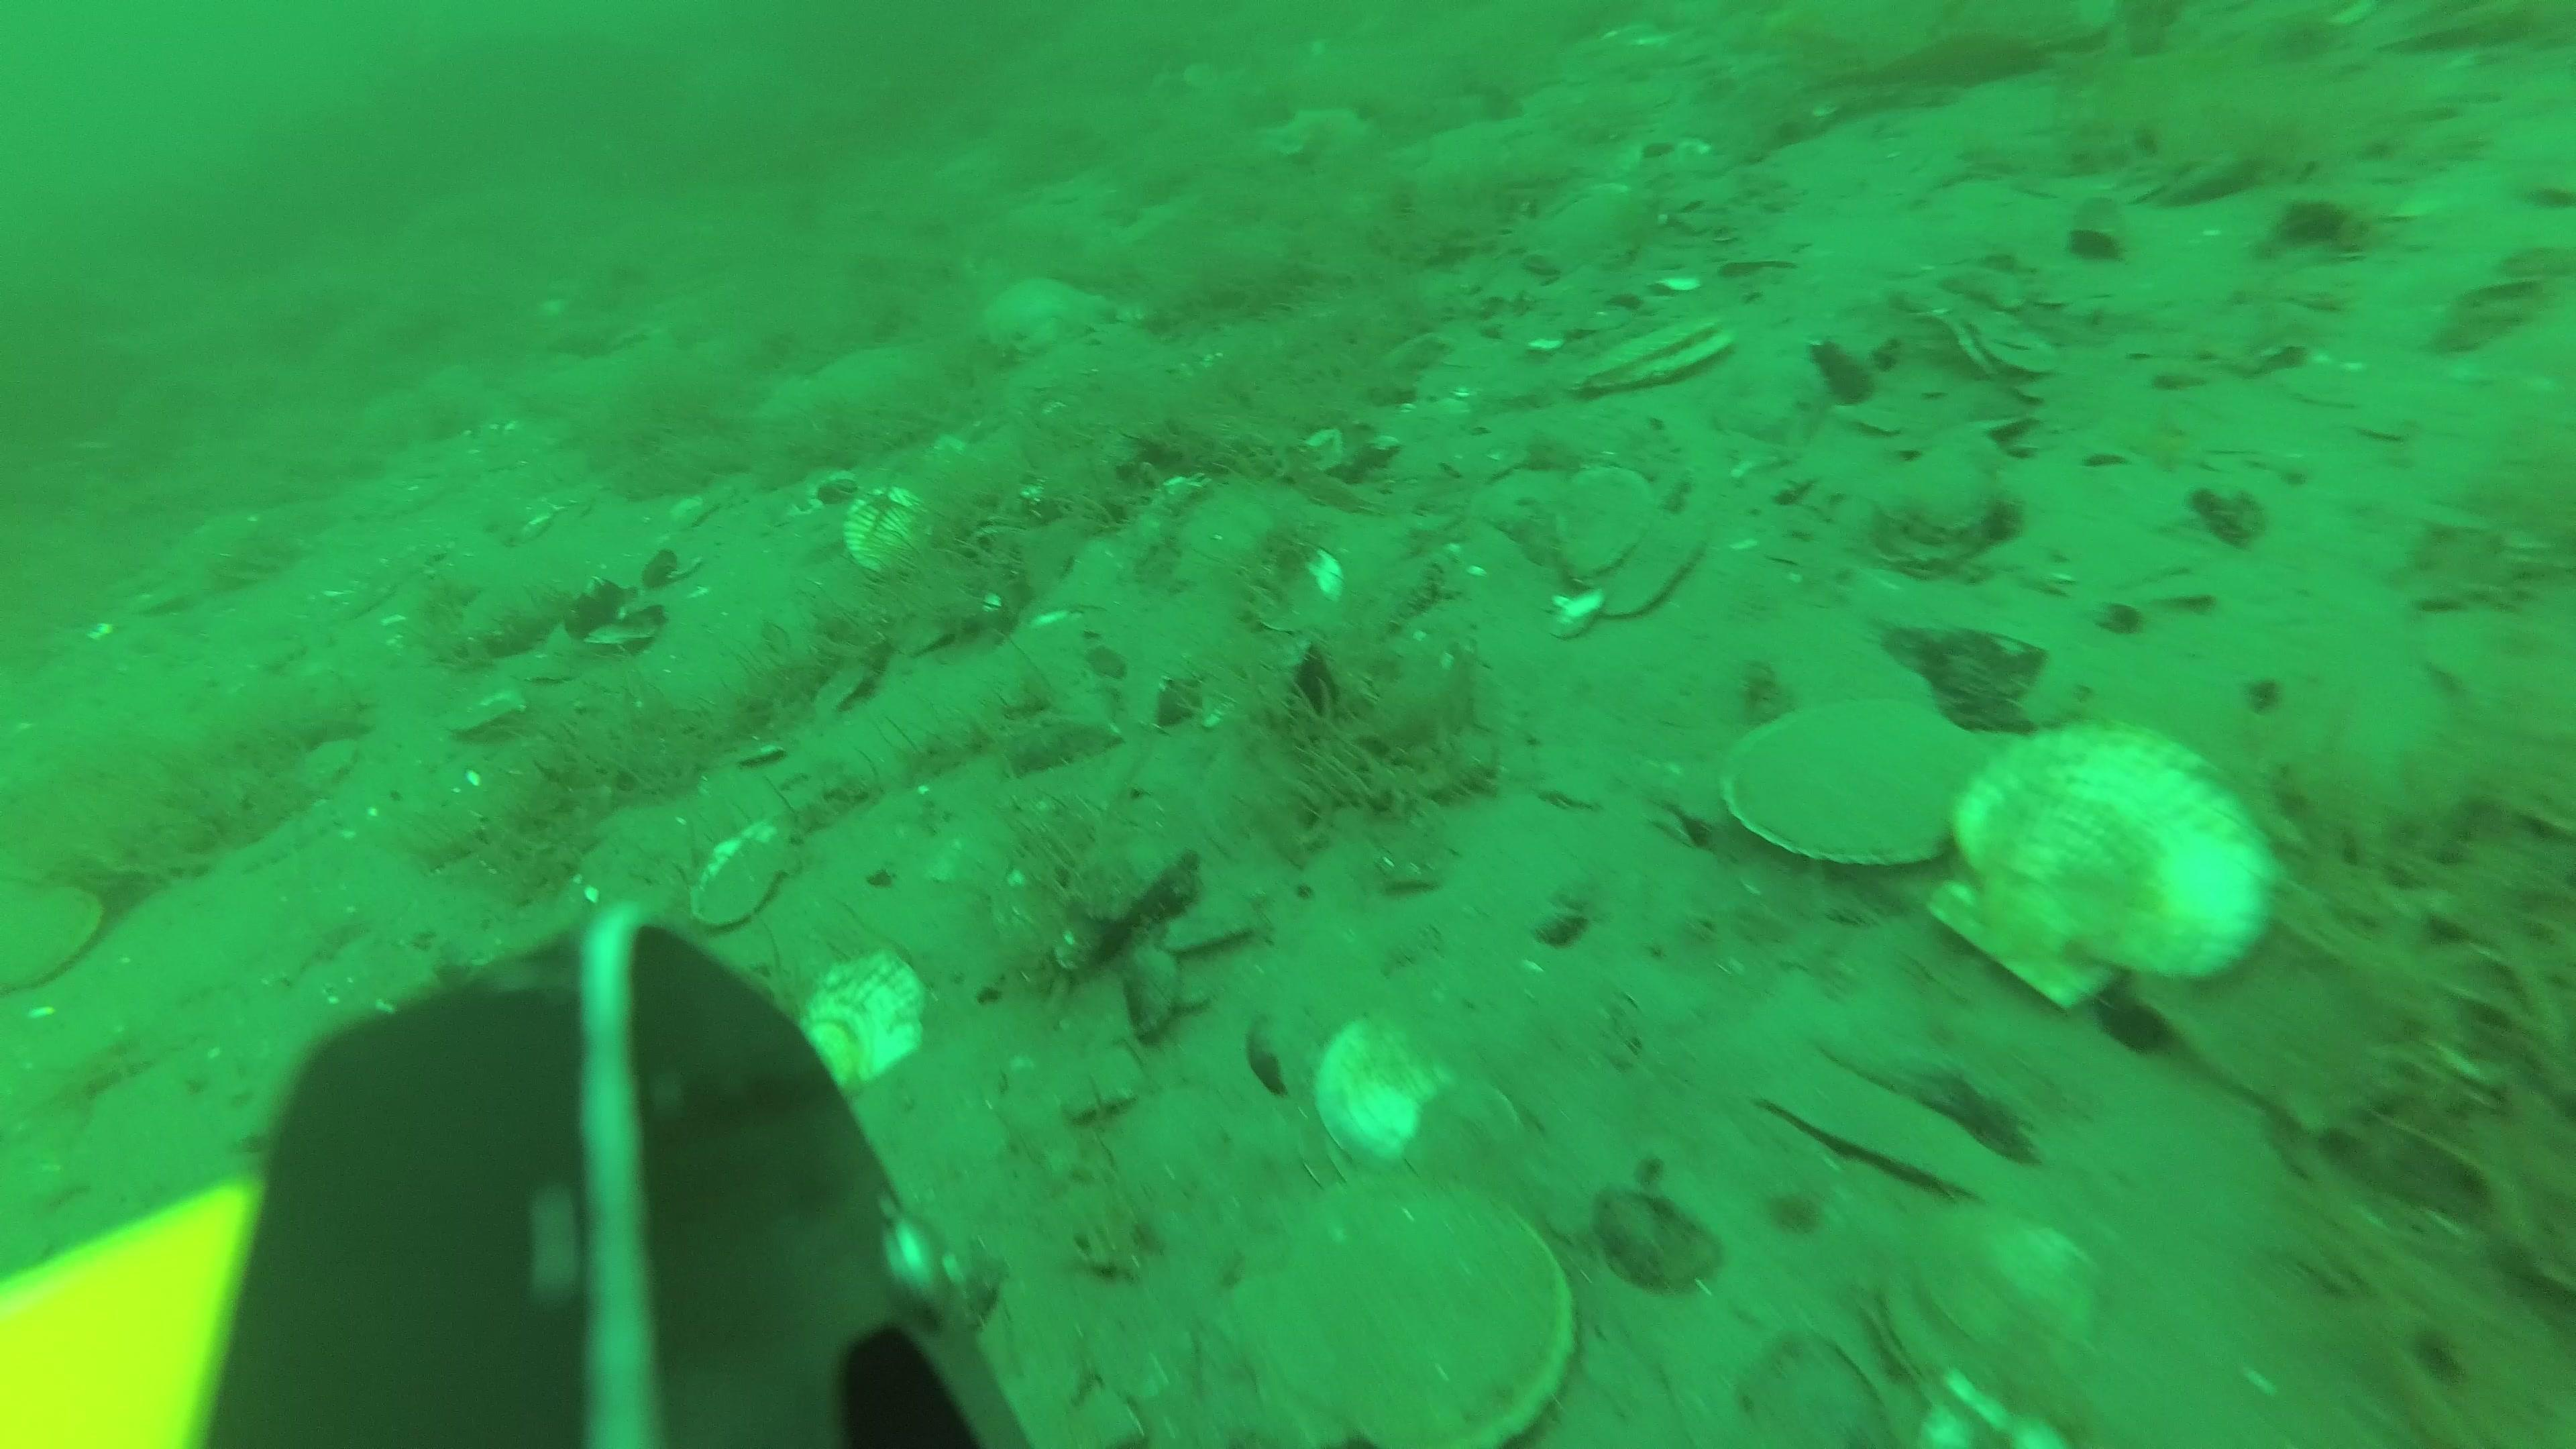scallop: (1215, 1162, 1576, 1440), (1930, 727, 2275, 1003), (1714, 709, 2006, 876), (1909, 1203, 2112, 1387), (1315, 1012, 1522, 1166), (798, 962, 920, 1093), (1408, 1079, 1545, 1191), (686, 812, 809, 924), (1562, 315, 1737, 391), (7, 872, 99, 996), (1598, 515, 1706, 619), (853, 485, 943, 586), (1566, 460, 1645, 571)
starfish: (975, 267, 1122, 356), (1272, 106, 1385, 175)
